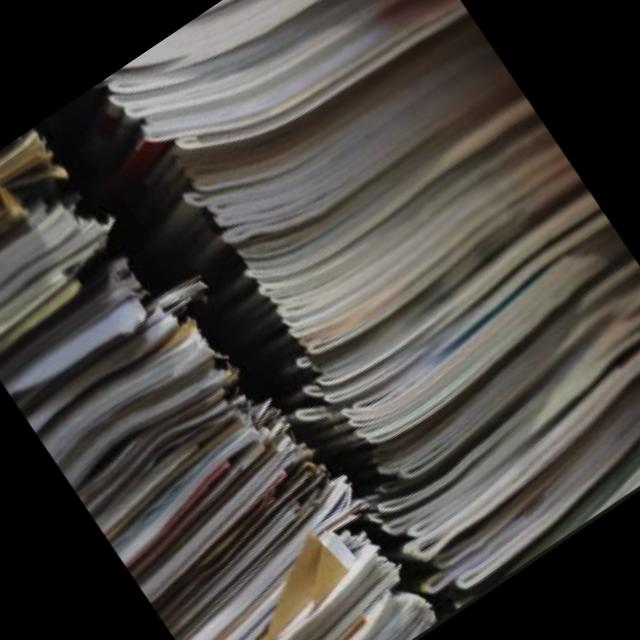KertasBekas: (79, 0, 640, 624), (0, 91, 442, 640)
